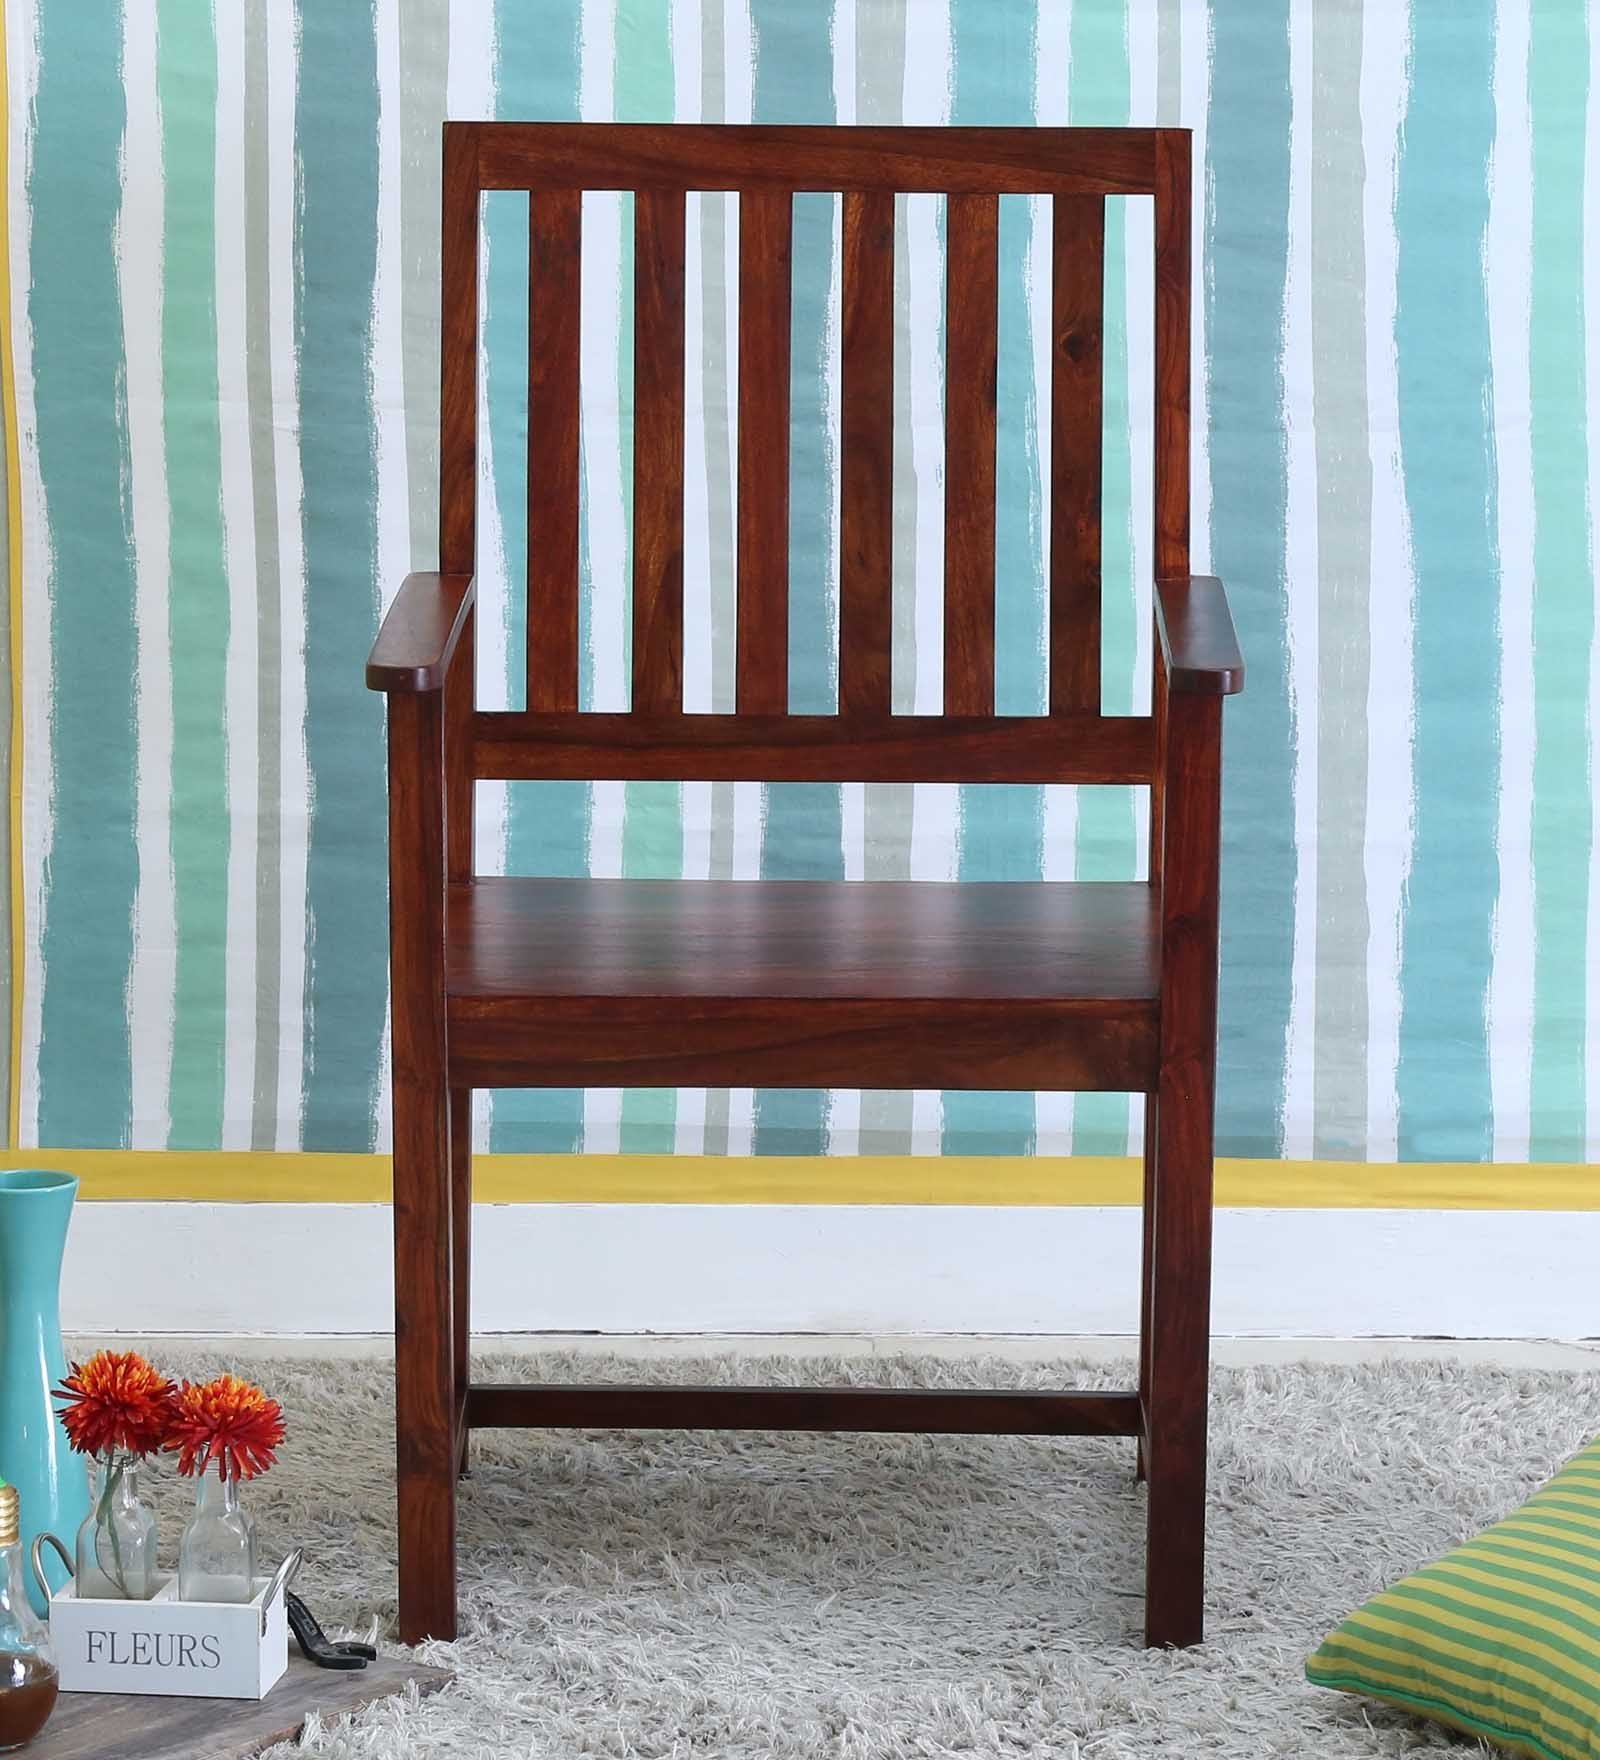Abbey Arm Chair in Honey Oak Finish by Woodsworth: (365, 94, 1254, 1671)
